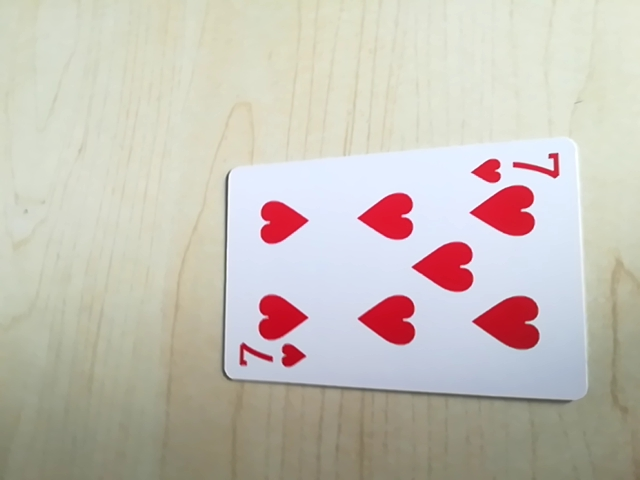hx 7: (467, 146, 566, 187), (232, 340, 309, 376)
